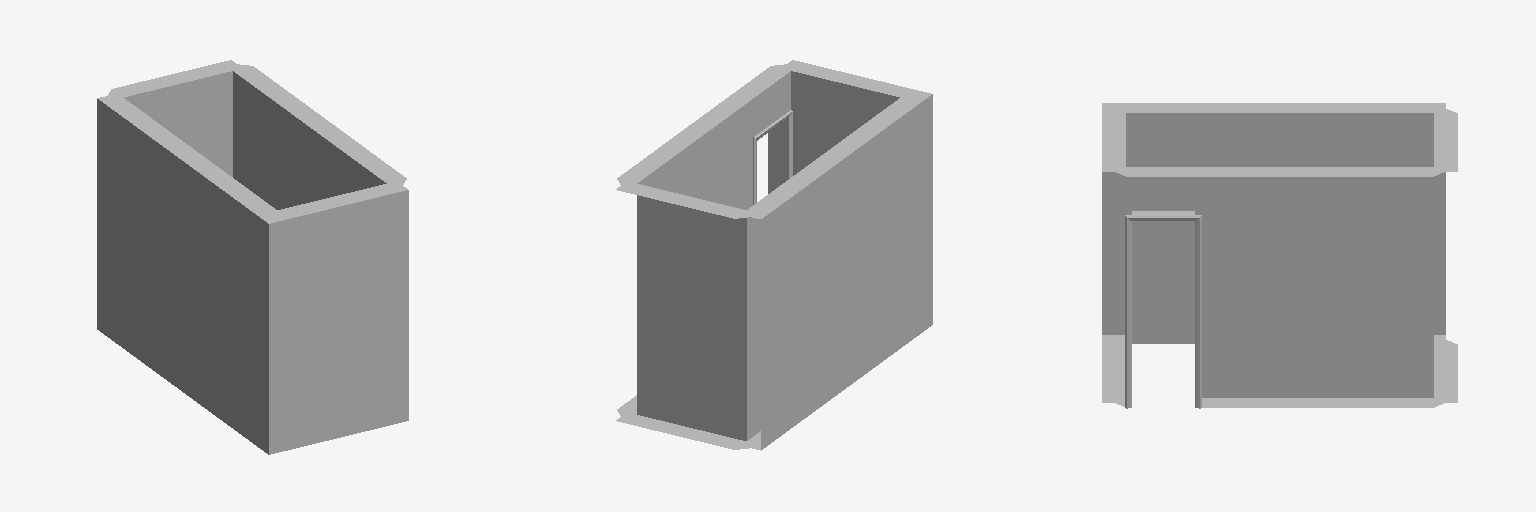
Rendered from Bathroom-14805w.obj.
3 renders of one model, left to right at view 1: azimuth 30°, elevation 25°; view 2: azimuth 150°, elevation 25°; view 3: azimuth 270°, elevation 25°, orthographic.
Size of the model in its own units: 1.79 by 2.6 by 3.62.